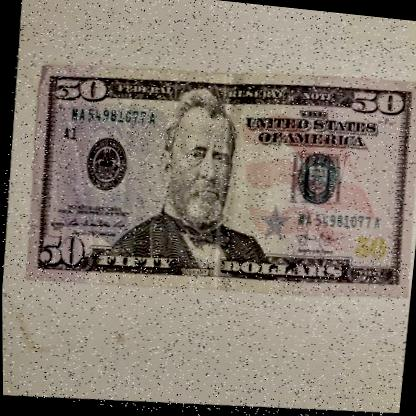dollar_front: (15, 45, 416, 323)
